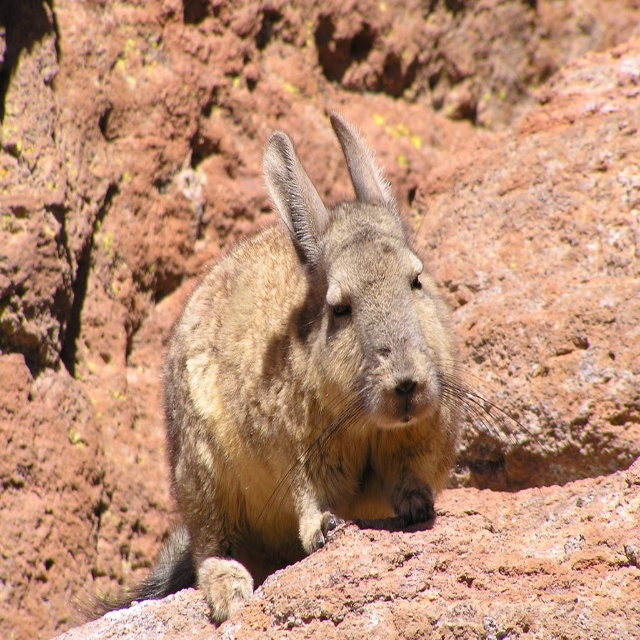Rabbit: (67, 107, 538, 629)
